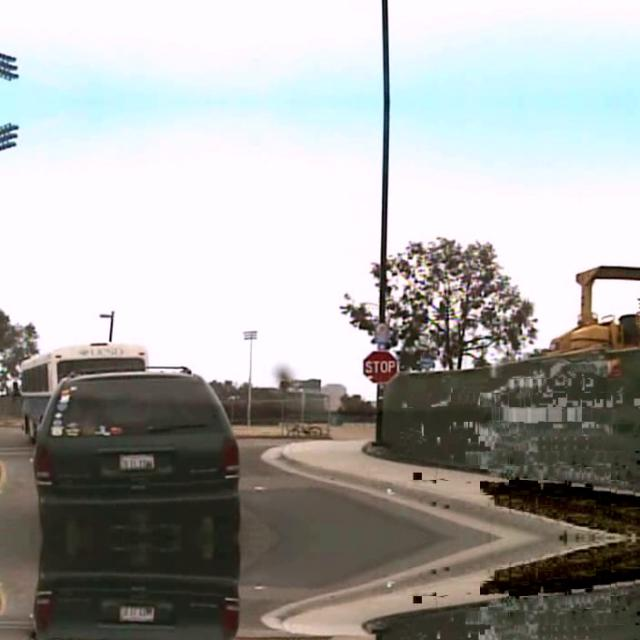stop: (362, 349, 398, 383)
